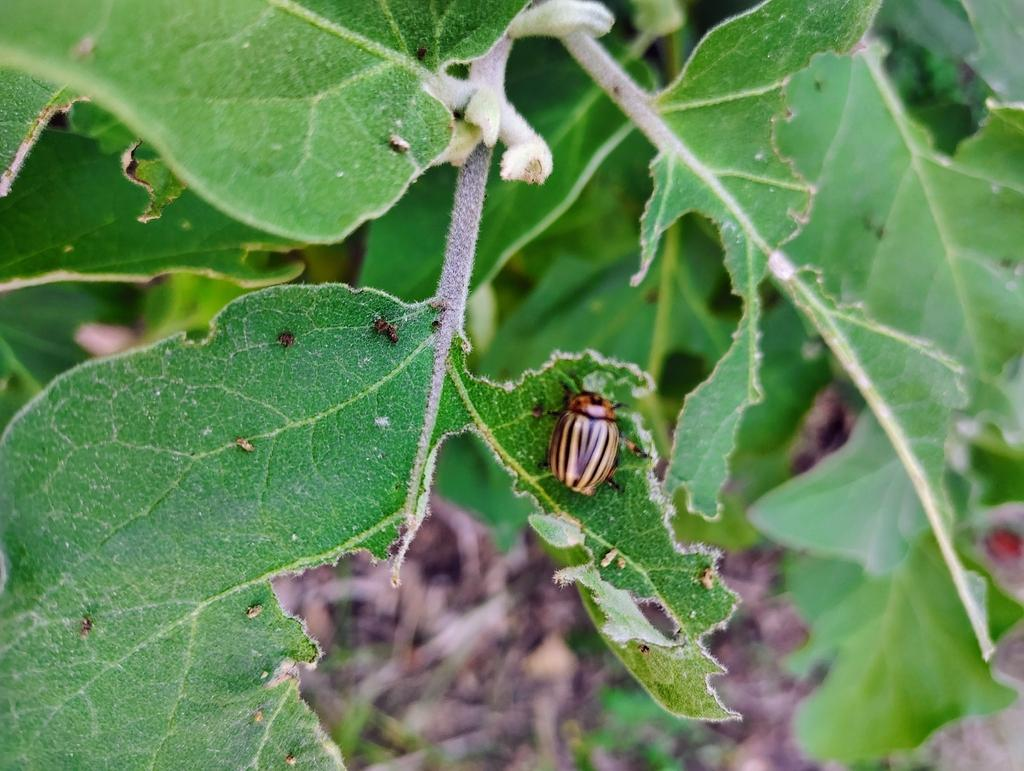potato_beetle: (515, 349, 661, 536)
